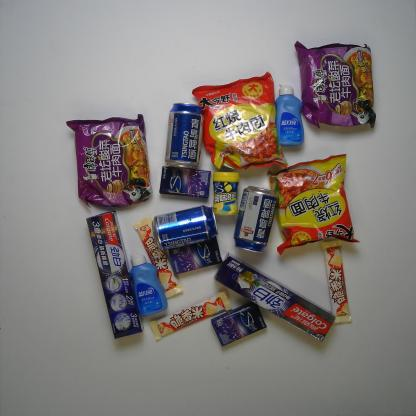Alcohol: (232, 185, 278, 254), (151, 205, 219, 251), (164, 102, 204, 169)
Chocolate: (132, 216, 184, 300), (149, 291, 232, 341), (320, 240, 352, 326)
Gum: (210, 302, 267, 347), (168, 236, 223, 276), (158, 166, 211, 199), (212, 171, 240, 216)
Instant Noodles: (192, 70, 289, 171), (266, 153, 361, 256), (64, 113, 153, 210), (294, 39, 378, 131)
Personal Hygiene: (214, 252, 336, 343), (86, 211, 144, 340), (128, 253, 167, 316), (274, 83, 305, 147)
